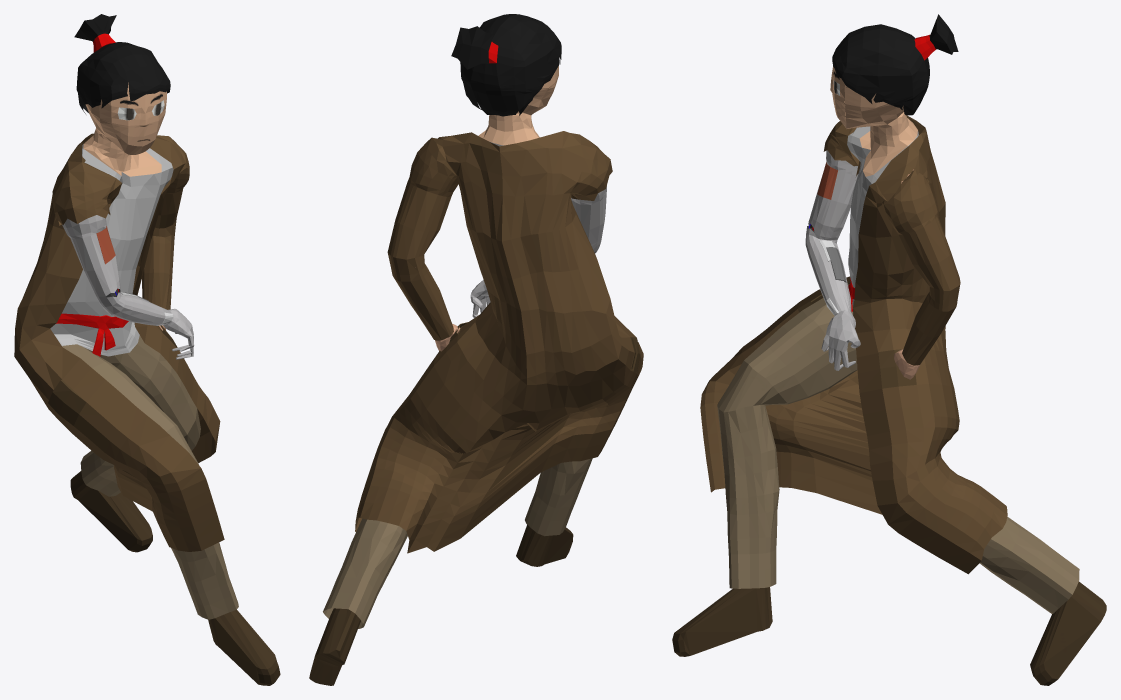
The model's file is One_DR_000006.obj.
3 views of the same model, side by side, from view 1: azimuth 30°, elevation 25°; view 2: azimuth 150°, elevation 25°; view 3: azimuth 270°, elevation 25° (orthographic). The views are drawn at different scales.
Parts seen in each view (by area): view 1: Hair_Cube.004; view 2: Hair_Cube.004; view 3: Hair_Cube.004.
Boxes of the visible parts, box(x1,y1,x2,y2) form: Hair_Cube.004: box(14, 14, 280, 685); Hair_Cube.004: box(309, 14, 643, 685); Hair_Cube.004: box(672, 14, 1106, 685).
Size of the model in its own units: 1.31 by 3.56 by 2.26.
